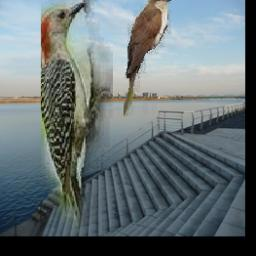Cuckoo: (124, 0, 172, 117)
Woodpecker: (41, 0, 113, 233)
